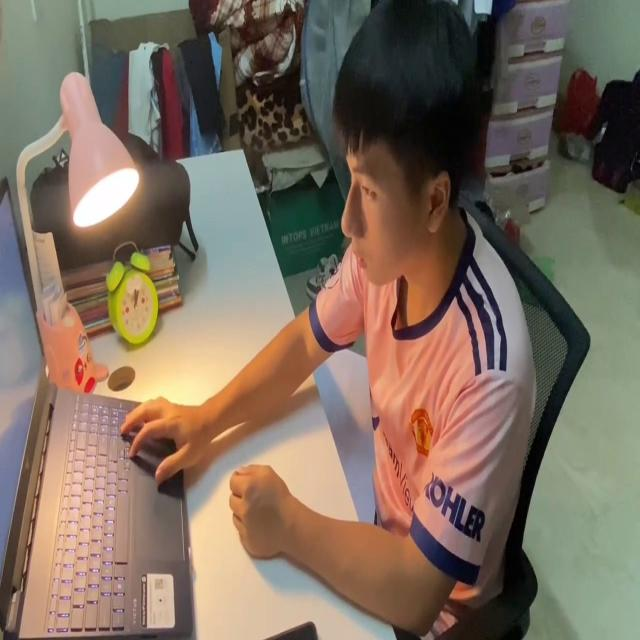book: (314, 339, 381, 527)
laptop: (0, 170, 192, 640)
phone: (271, 619, 320, 640)
student: (121, 0, 537, 640)
